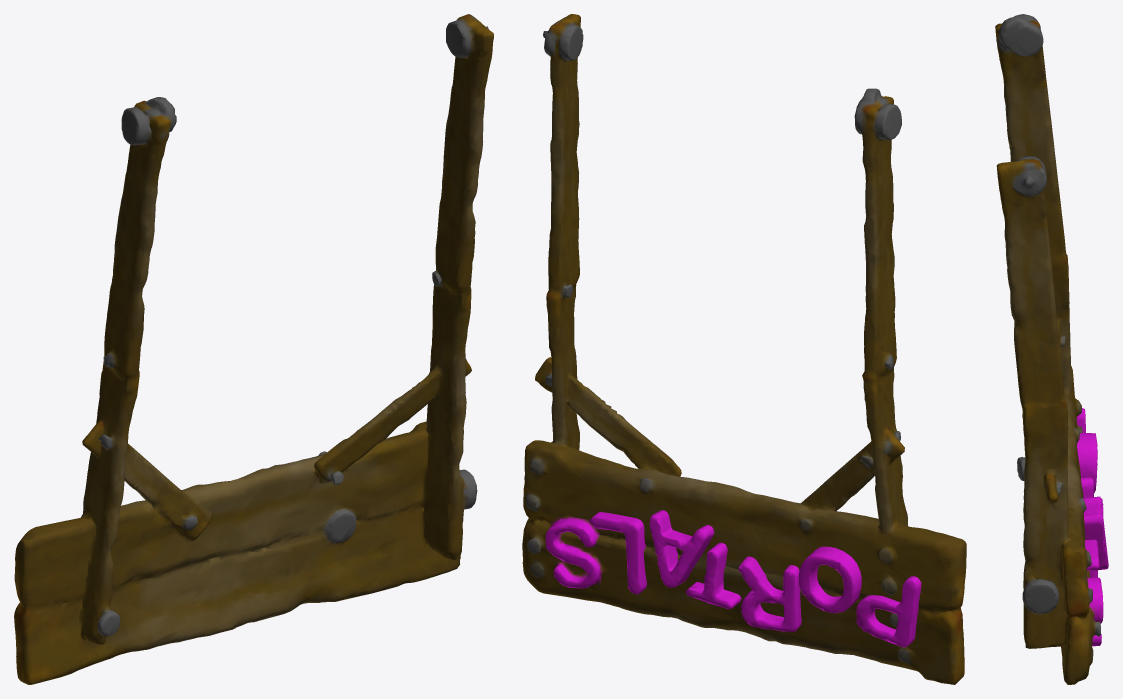
File: portalssign.obj
3 views of the same model, side by side, from view 1: azimuth 30°, elevation 25°; view 2: azimuth 150°, elevation 25°; view 3: azimuth 270°, elevation 25° (orthographic). The views are drawn at different scales.
Visible parts, largest first — view 1: Layer_2; view 2: Layer_2, Layer_3; view 3: Layer_2, Layer_3.
Boxes of the visible parts, x1,y1,x2,y2 form: Layer_2: (14, 14, 493, 684); Layer_2: (522, 14, 966, 684); Layer_3: (589, 510, 921, 647); Layer_2: (995, 14, 1103, 684); Layer_3: (1076, 408, 1108, 577).
Size of the model in its own units: 84.02 by 102 by 19.85.
2 materials, 2 textured.
